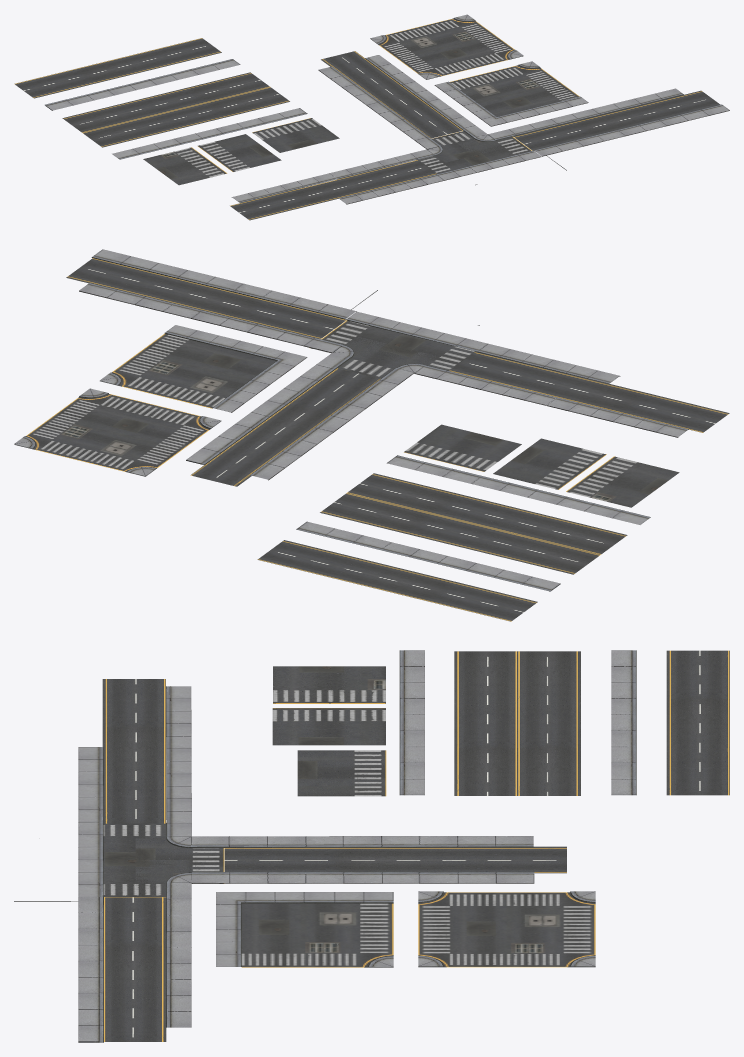
File: Single dash road pack.glb
The picture shows the model from 3 angles, top to bottom: view 1: azimuth 30°, elevation 25°; view 2: azimuth 150°, elevation 25°; view 3: azimuth 270°, elevation 25°; orthographic projection. The views are drawn at different scales.
Parts seen in each view (by area): view 1: Road_1X_Straight_City_Road_mat_0.003, Road_L_Intersection, Road_X_Intersection, Road_1X_Straight_City_Road_mat_0.012, Road_1X_Straight_City_Road_mat_0.004, Road_1X_Straight_City_Road_mat_0.005, Road_1X_Straight_City_Road_mat_0.008, Road_T_Intersection_City_Intersection_mat_0.002, Road_T_Intersection_City_Intersection_mat_0.001, Road_1X_Straight_City_Road_mat_0.001, Road_1X_Straight_City_Road_mat_0.002, Road_T_Intersection_City_Intersection_mat_0.006 (+11 smaller); view 2: Road_1X_Straight_City_Road_mat_0.003, Road_L_Intersection, Road_X_Intersection, Road_1X_Straight_City_Road_mat_0.012, Road_1X_Straight_City_Road_mat_0.004, Road_1X_Straight_City_Road_mat_0.005, Road_1X_Straight_City_Road_mat_0.008, Road_T_Intersection_City_Intersection_mat_0.002, Road_T_Intersection_City_Intersection_mat_0.001, Road_T_Intersection_City_Intersection_mat_0.006, Road_1X_Straight_City_Road_mat_0.001, Road_1X_Straight_City_Road_mat_0.002 (+11 smaller); view 3: Road_1X_Straight_City_Road_mat_0.003, Road_X_Intersection, Road_L_Intersection, Road_1X_Straight_City_Road_mat_0.012, Road_1X_Straight_City_Road_mat_0.004, Road_1X_Straight_City_Road_mat_0.005, Road_1X_Straight_City_Road_mat_0.008, Road_T_Intersection_City_Intersection_mat_0.002, Road_T_Intersection_City_Intersection_mat_0.001, Road_T_Intersection_City_Intersection_mat_0.006, Road_1X_Straight_City_Road_mat_0.010, Road_1X_Straight_City_Road_mat_0.011 (+11 smaller).
Boxes of the visible parts, <box> form: Road_1X_Straight_City_Road_mat_0.003: <box>62,72,289,147</box>; Road_L_Intersection: <box>434,61,588,126</box>; Road_X_Intersection: <box>370,14,523,79</box>; Road_1X_Straight_City_Road_mat_0.012: <box>14,38,221,98</box>; Road_1X_Straight_City_Road_mat_0.004: <box>230,160,436,220</box>; Road_1X_Straight_City_Road_mat_0.005: <box>513,90,719,150</box>; Road_1X_Straight_City_Road_mat_0.008: <box>321,51,462,138</box>; Road_T_Intersection_City_Intersection_mat_0.002: <box>197,134,281,171</box>; Road_T_Intersection_City_Intersection_mat_0.001: <box>143,147,227,185</box>; Road_1X_Straight_City_Road_mat_0.001: <box>488,88,683,140</box>; Road_1X_Straight_City_Road_mat_0.002: <box>534,104,729,156</box>; Road_T_Intersection_City_Intersection_mat_0.006: <box>252,118,339,152</box>; Road_1X_Straight_City_Road_mat_0.003: <box>320,473,627,574</box>; Road_L_Intersection: <box>100,325,307,412</box>; Road_X_Intersection: <box>14,388,221,476</box>; Road_1X_Straight_City_Road_mat_0.012: <box>257,540,537,621</box>; Road_1X_Straight_City_Road_mat_0.004: <box>449,351,729,432</box>; Road_1X_Straight_City_Road_mat_0.005: <box>66,258,346,338</box>; Road_1X_Straight_City_Road_mat_0.008: <box>190,368,380,486</box>; Road_T_Intersection_City_Intersection_mat_0.002: <box>493,438,606,489</box>; Road_T_Intersection_City_Intersection_mat_0.001: <box>566,456,679,507</box>; Road_T_Intersection_City_Intersection_mat_0.006: <box>404,424,521,471</box>; Road_1X_Straight_City_Road_mat_0.001: <box>79,283,343,352</box>; Road_1X_Straight_City_Road_mat_0.002: <box>91,249,356,319</box>; Road_1X_Straight_City_Road_mat_0.003: <box>454,651,580,795</box>; Road_X_Intersection: <box>418,891,595,967</box>; Road_L_Intersection: <box>216,892,393,967</box>; Road_1X_Straight_City_Road_mat_0.012: <box>666,650,729,795</box>; Road_1X_Straight_City_Road_mat_0.004: <box>102,679,165,823</box>; Road_1X_Straight_City_Road_mat_0.005: <box>104,897,166,1041</box>; Road_1X_Straight_City_Road_mat_0.008: <box>224,846,566,873</box>; Road_T_Intersection_City_Intersection_mat_0.002: <box>272,708,385,745</box>; Road_T_Intersection_City_Intersection_mat_0.001: <box>273,666,385,703</box>; Road_T_Intersection_City_Intersection_mat_0.006: <box>297,750,386,796</box>; Road_1X_Straight_City_Road_mat_0.010: <box>191,872,534,883</box>; Road_1X_Straight_City_Road_mat_0.011: <box>191,836,533,847</box>.
Size of the model in its own units: 198 by 0.3067 by 153.
Materials: 13 (13 with a texture image).
